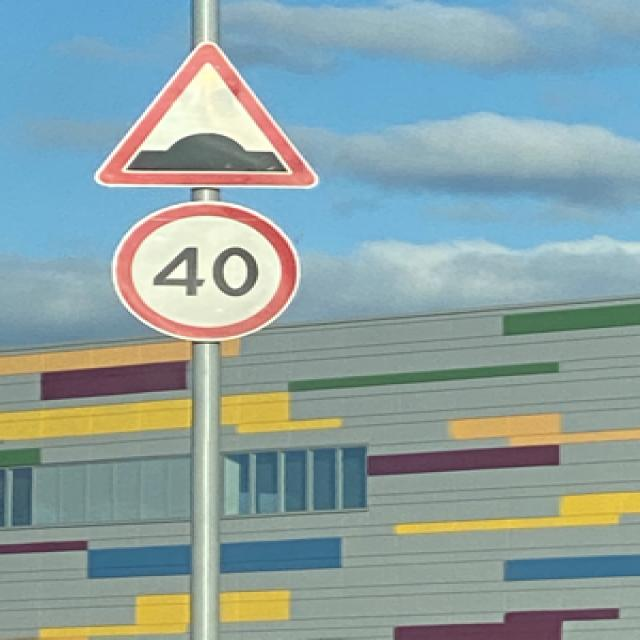speedlimit: (109, 202, 296, 341)
